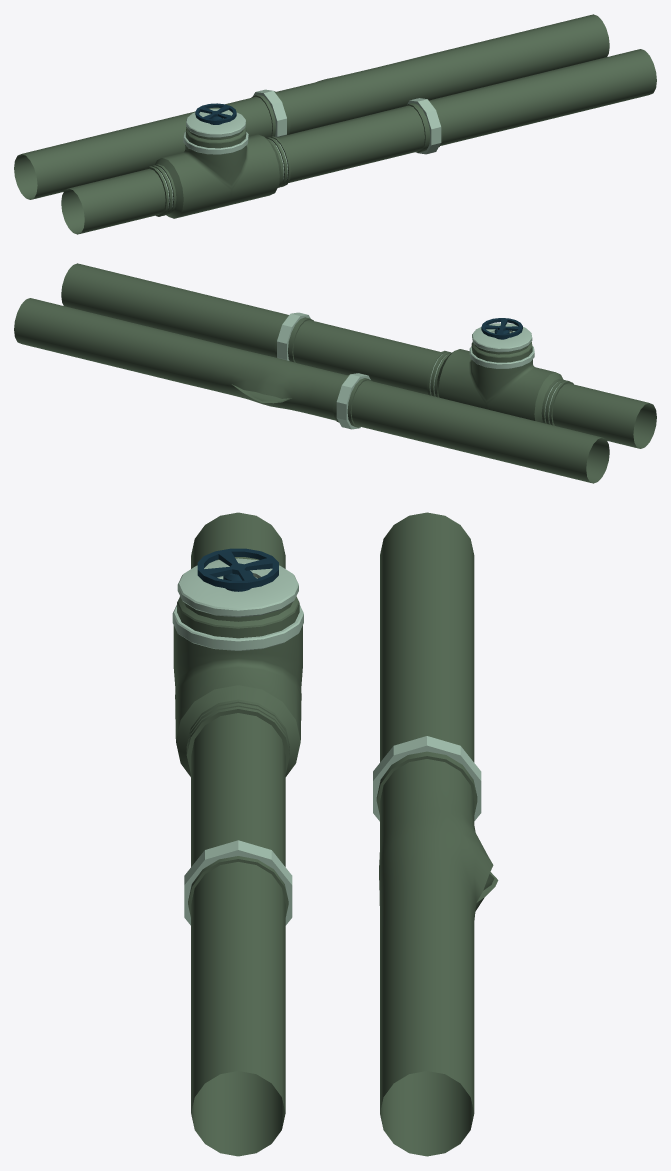
The model's file is PipeComplexLarge_A1_07.fbx.
3 renders of one model, top to bottom at view 1: azimuth 30°, elevation 25°; view 2: azimuth 150°, elevation 25°; view 3: azimuth 270°, elevation 25°, orthographic. The views are drawn at different scales.
Parts seen in each view (by area): view 1: PipeComplexLarge_A1_07.001; view 2: PipeComplexLarge_A1_07.001; view 3: PipeComplexLarge_A1_07.001.
Part boxes in pixels (<box>): PipeComplexLarge_A1_07.001: <box>14,14,656,234</box>; PipeComplexLarge_A1_07.001: <box>14,263,656,483</box>; PipeComplexLarge_A1_07.001: <box>172,512,498,1156</box>.
Bounding box in the file's own units: 2.8 × 0.4338 × 0.6903.
